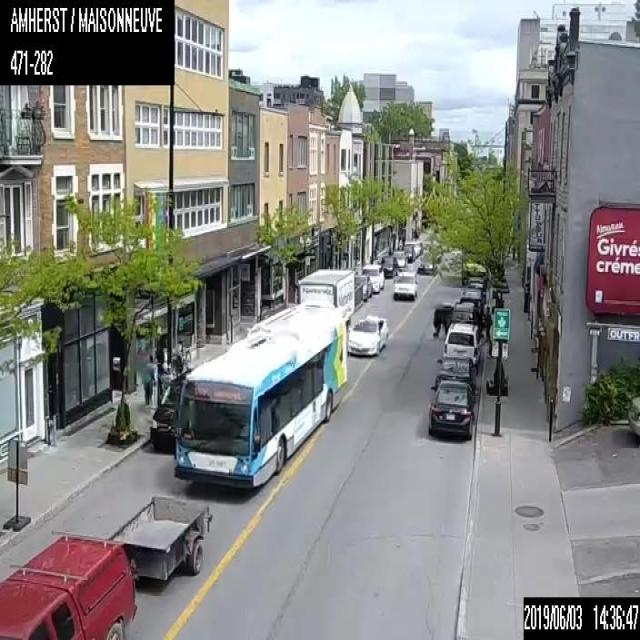bus: (173, 301, 347, 487)
construction: (4, 439, 30, 532)
pedestrian: (142, 352, 156, 404), (432, 304, 447, 336), (483, 303, 492, 344)
vehicle: (0, 494, 212, 638), (297, 267, 354, 323), (150, 368, 190, 447), (428, 379, 477, 438), (442, 322, 481, 372), (435, 356, 477, 397), (432, 301, 483, 334), (347, 314, 387, 355), (392, 270, 417, 298), (361, 264, 384, 292), (459, 288, 485, 311), (628, 393, 639, 436), (354, 274, 372, 298), (378, 255, 397, 277), (466, 276, 485, 296), (392, 249, 406, 267), (400, 244, 414, 262), (417, 261, 436, 274)
